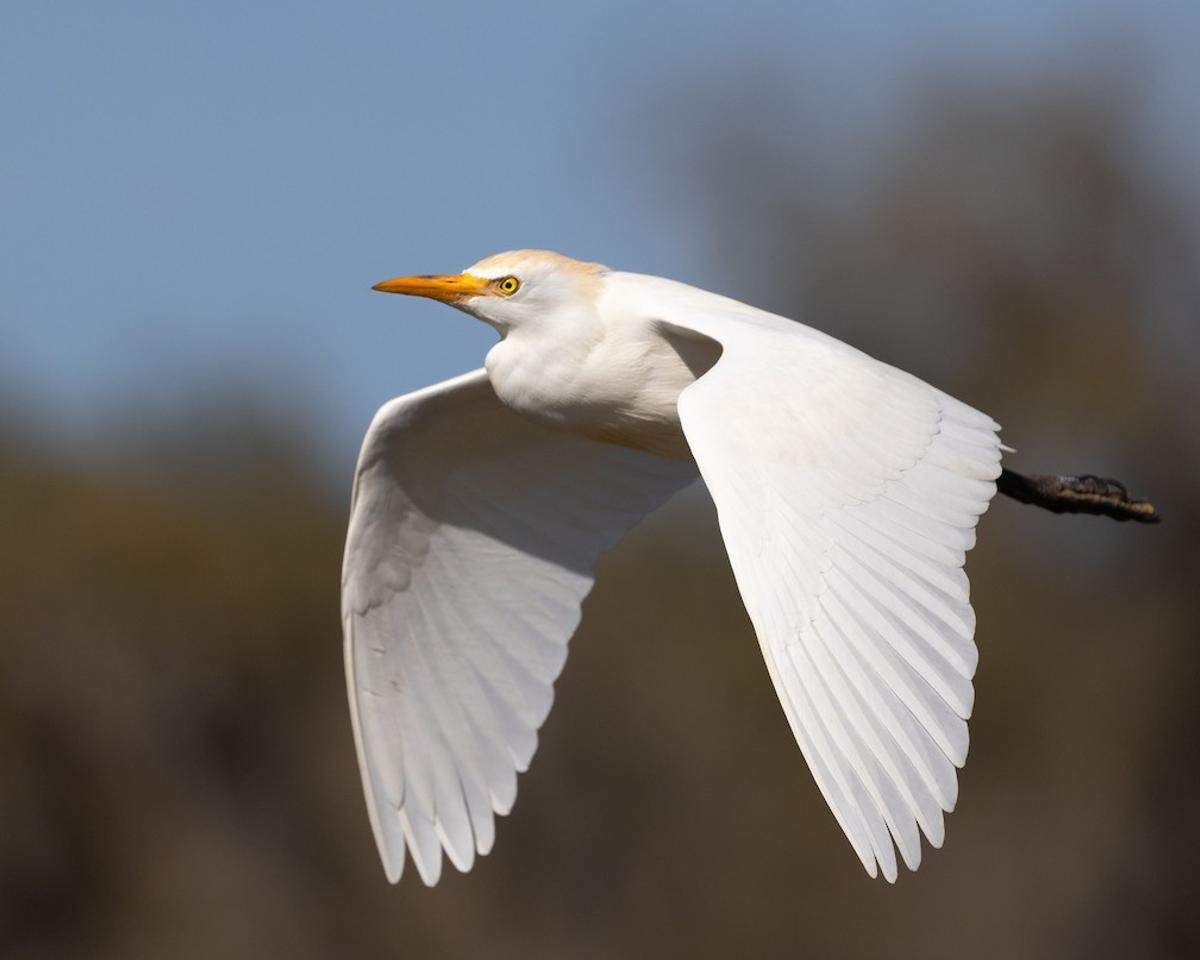egret: (309, 220, 1166, 902)
